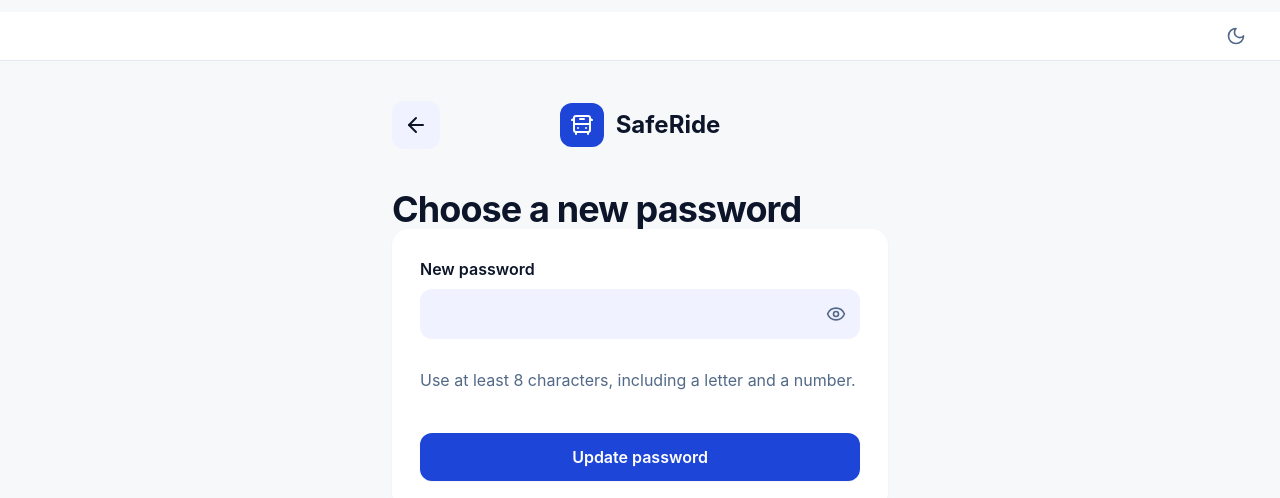
Test: authentication › updates a password only from a recovery session
The width and height of the screenshot is (1280, 498).
In the password field labelled "New password": [640, 314] box [420,289,860,339], type "NewPass123"
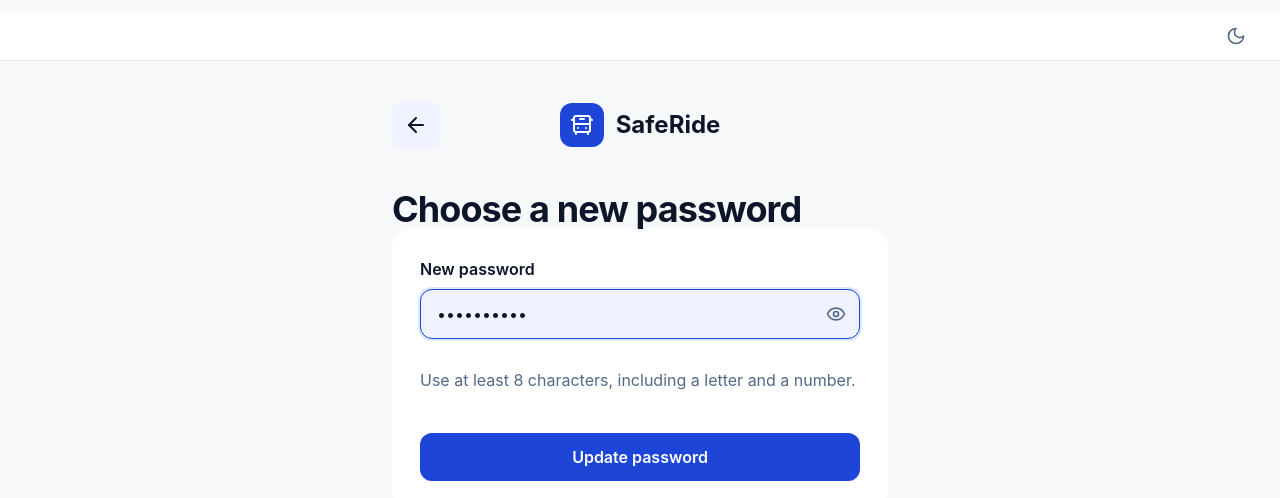
Click the button "Update password": [640, 457] box [420,433,860,481]
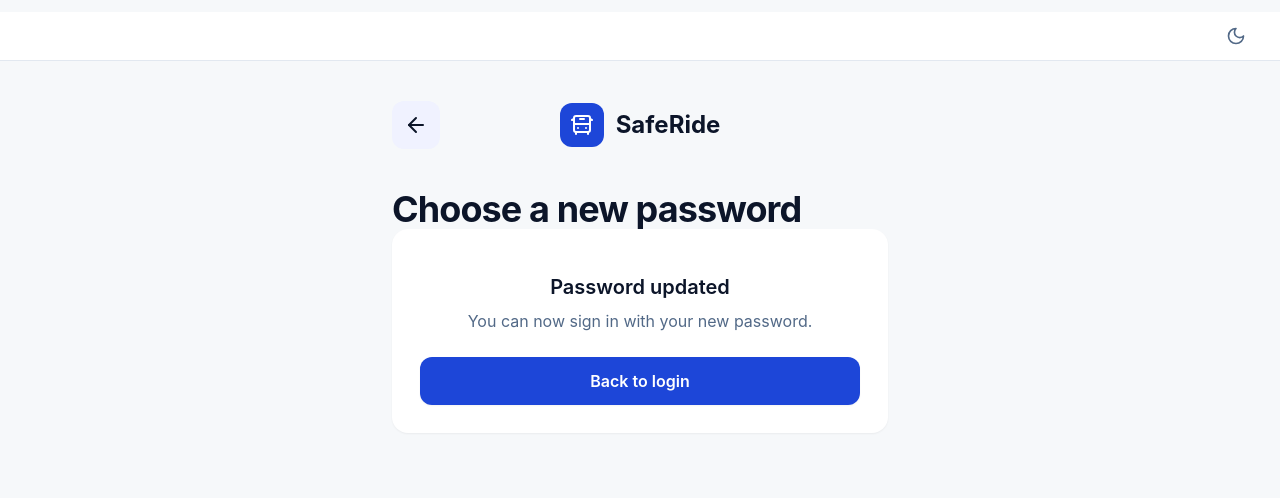
Now the heading "Password updated" is shown, box [550,273,730,301]
